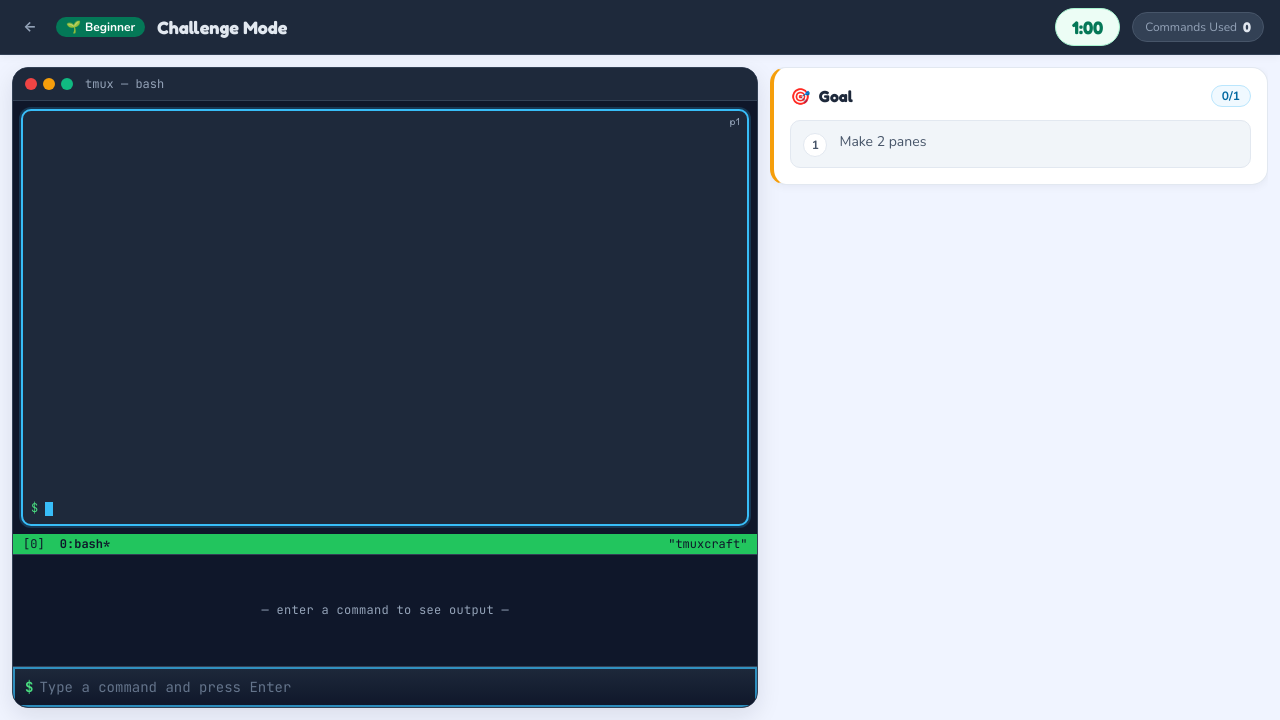
Test: ChallengeScreen › shows the result in a dialog on success, with a way back to the menu
The width and height of the screenshot is (1280, 720).
Later steps or results of the test are not shown.
Type ":split-window" into the field labelled "command".
click(392, 687); type(":split-window")  # box [39,677,745,697]
Then press Enter
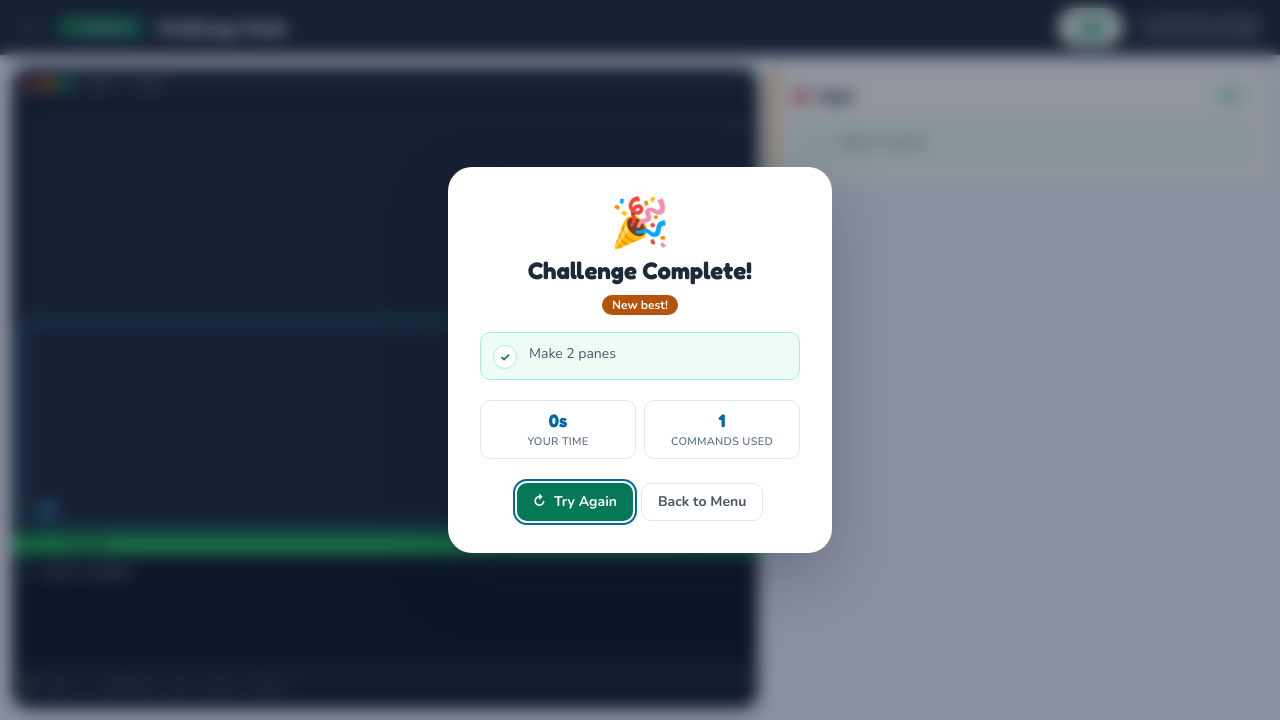
Expected: the button "↻ Try Again" is shown, [517,483,633,521]
